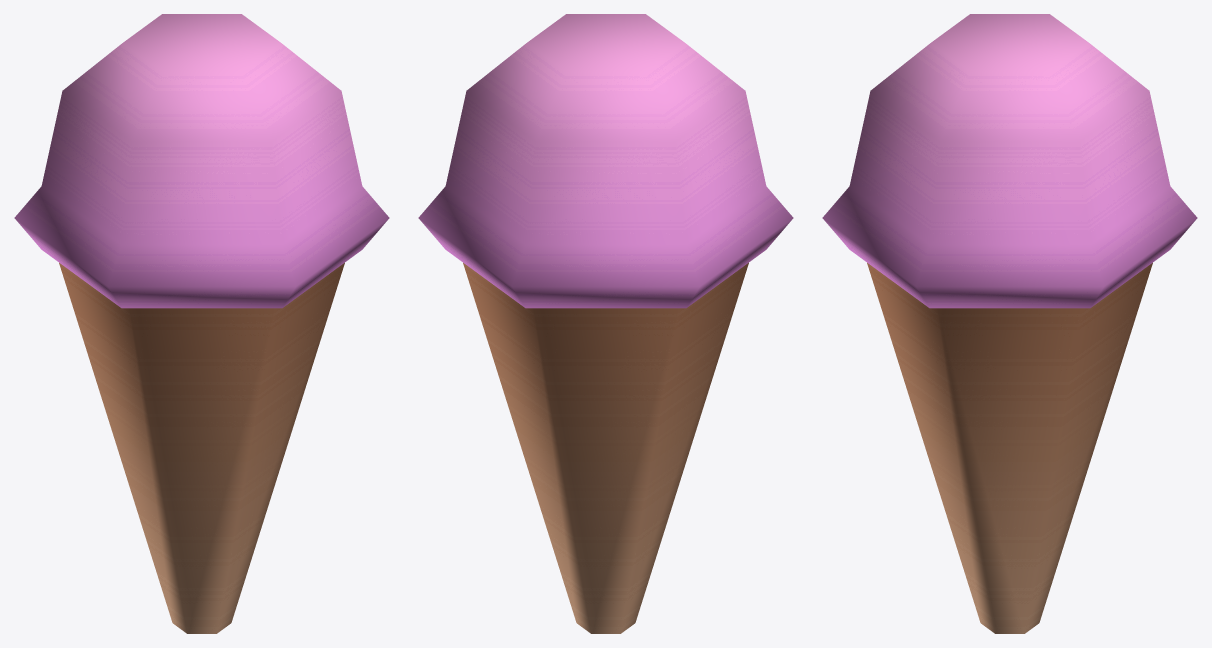
Rendered from ice-cream.glb.
3 views of the same model, side by side, from view 1: azimuth 30°, elevation 25°; view 2: azimuth 150°, elevation 25°; view 3: azimuth 270°, elevation 25° (orthographic).
Parts seen in each view (by area): view 1: Group, ice-cream; view 2: Group, ice-cream; view 3: Group, ice-cream.
Part boxes in pixels (x1,y1,x2,y2): Group: [14, 14, 389, 308]; ice-cream: [59, 263, 344, 633]; Group: [418, 14, 793, 308]; ice-cream: [463, 263, 748, 633]; Group: [822, 14, 1197, 308]; ice-cream: [867, 263, 1152, 633].
Size of the model in its own units: 0.2352 by 0.4632 by 0.2716.
1 material, 1 textured.
